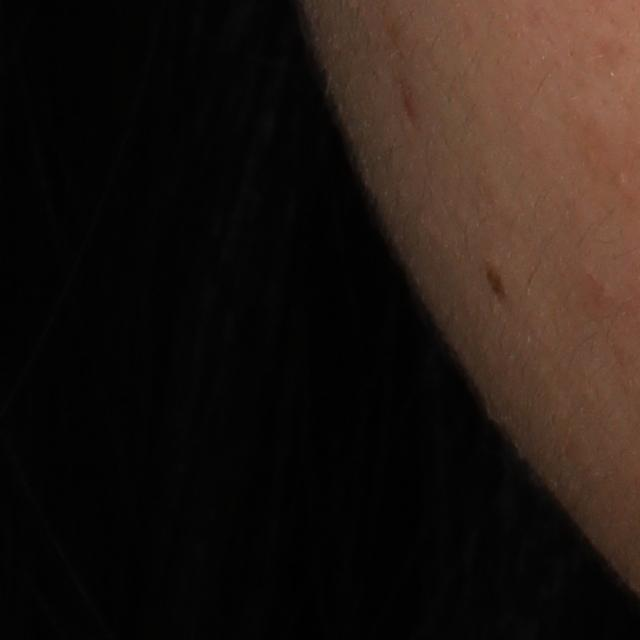nevus: (484, 261, 502, 303)
